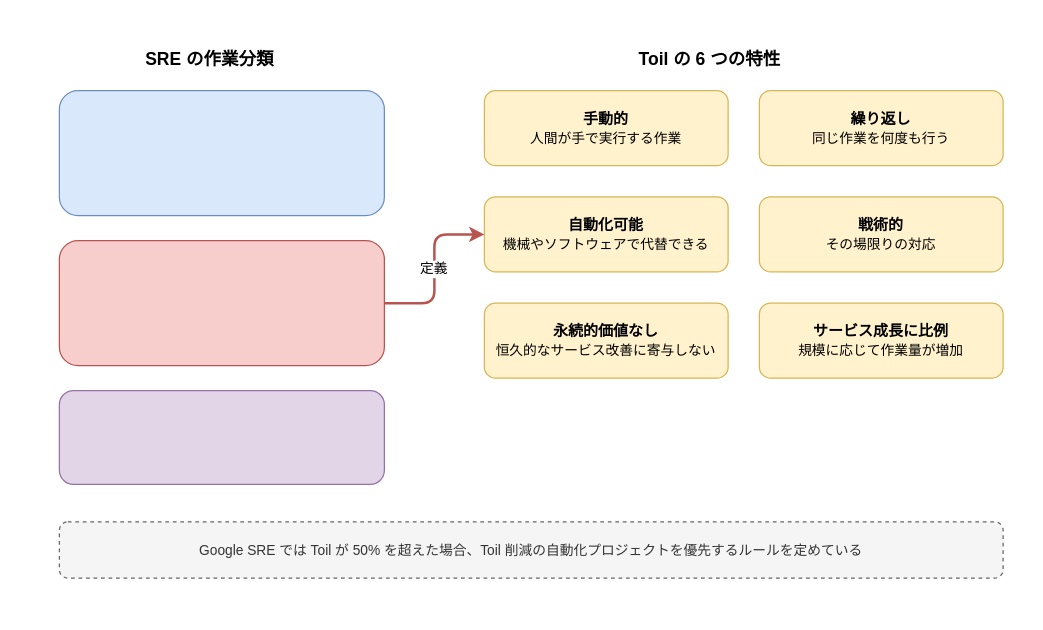
Image size: 1043x630. Some labels were removed from this diagram. Each missing label, with the centre of its shape:
Toil（トイル） ≤ 50% 手動的・繰り返しの運用作業: point (221, 302)
エンジニアリング作業 ≥ 50% ソフトウェア開発・自動化・ アーキテクチャ改善: point (221, 152)
オーバーヘッド 会議・管理業務・レポート: point (221, 436)
